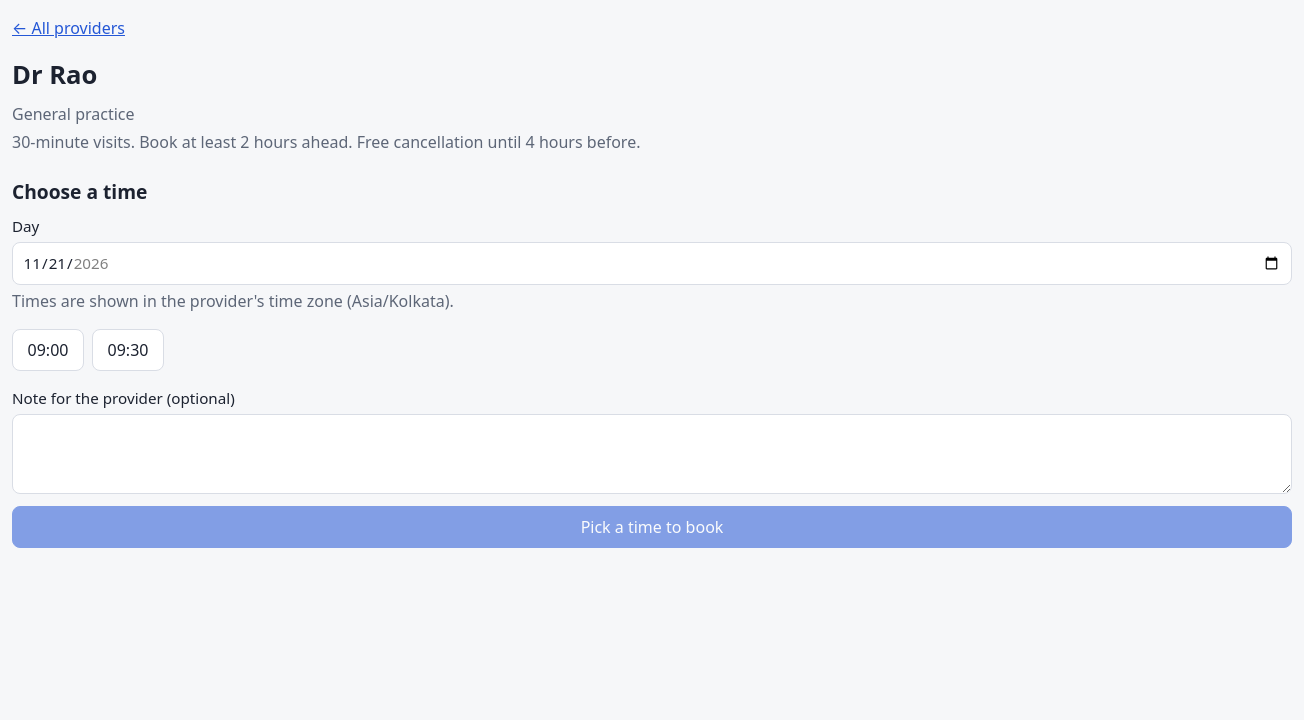
Test: ProviderPage booking › when the slot was just taken: shows why, clears the choice and reloads the slots
The width and height of the screenshot is (1304, 720).
Click the button "09:00" at x=48, y=350, box [12,329,84,371]
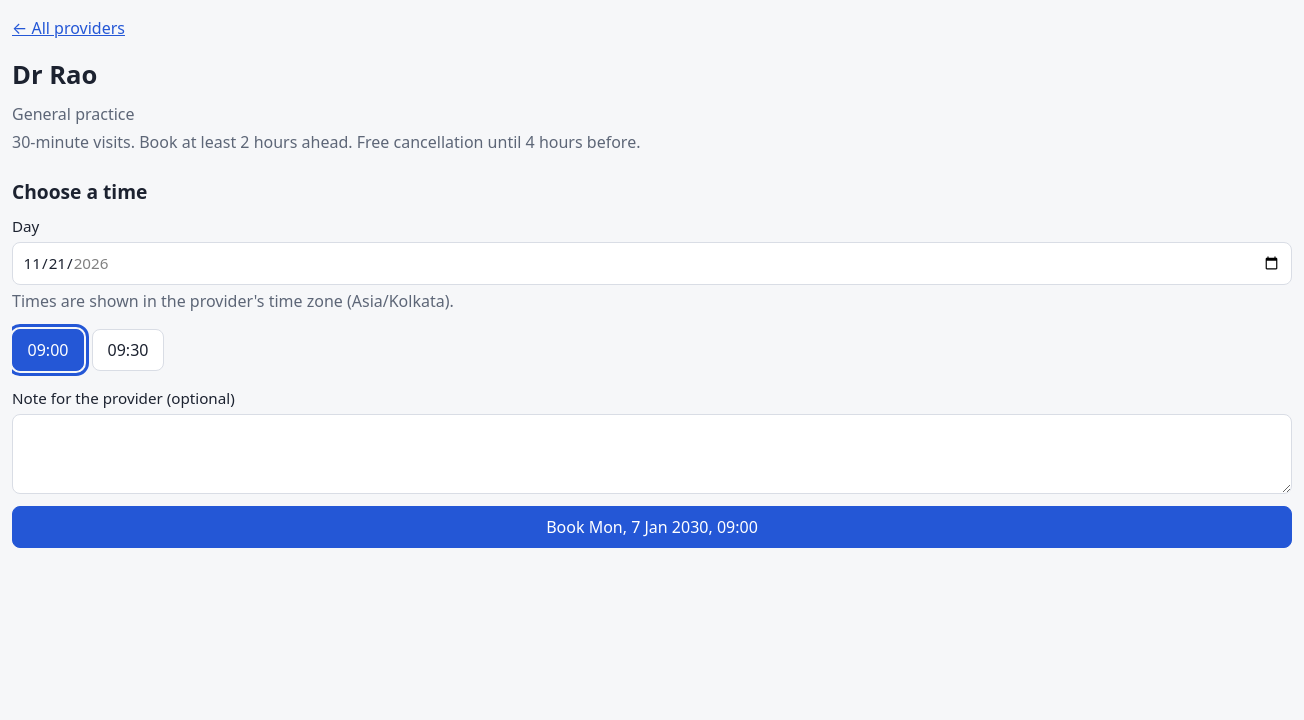
Click the button "Book Mon, 7 Jan 2030, 09:00" at x=652, y=527, box [12,506,1292,548]
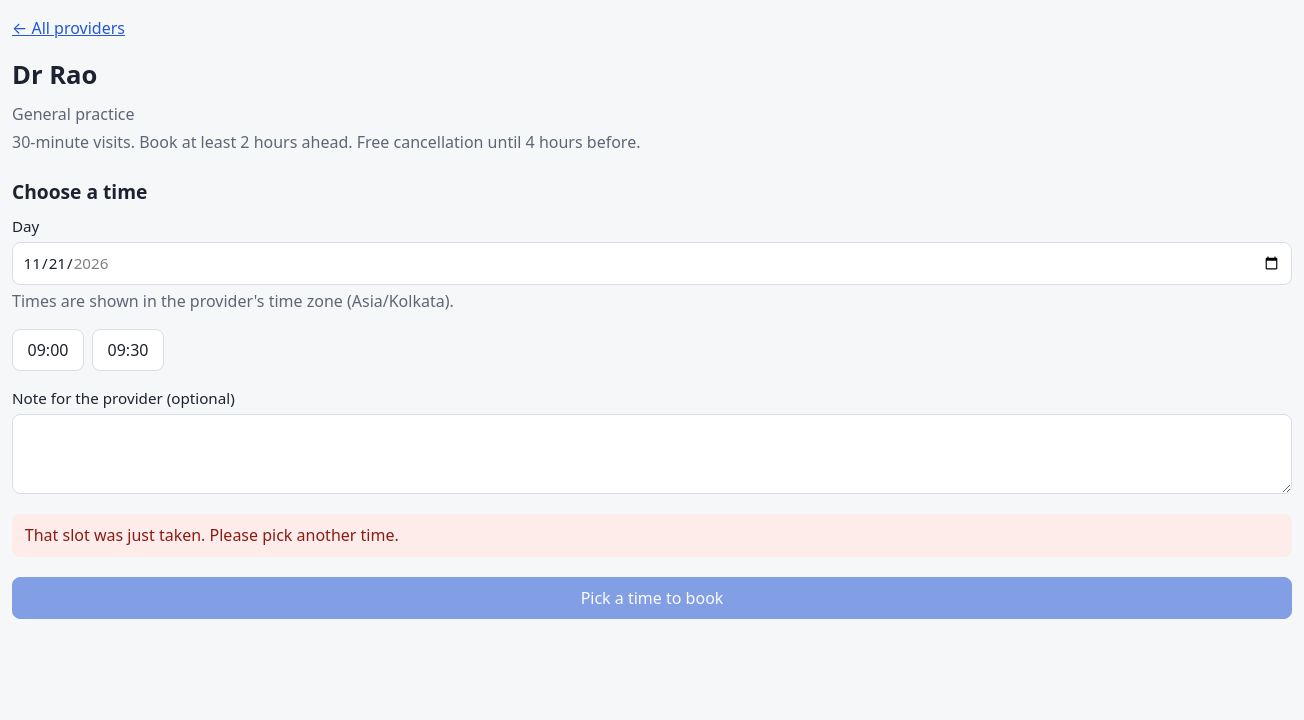
Expected: the message shows "That slot was just taken", [25,524,399,546]
Expected: the button "Pick a time to book" is disabled, [12,577,1292,619]
